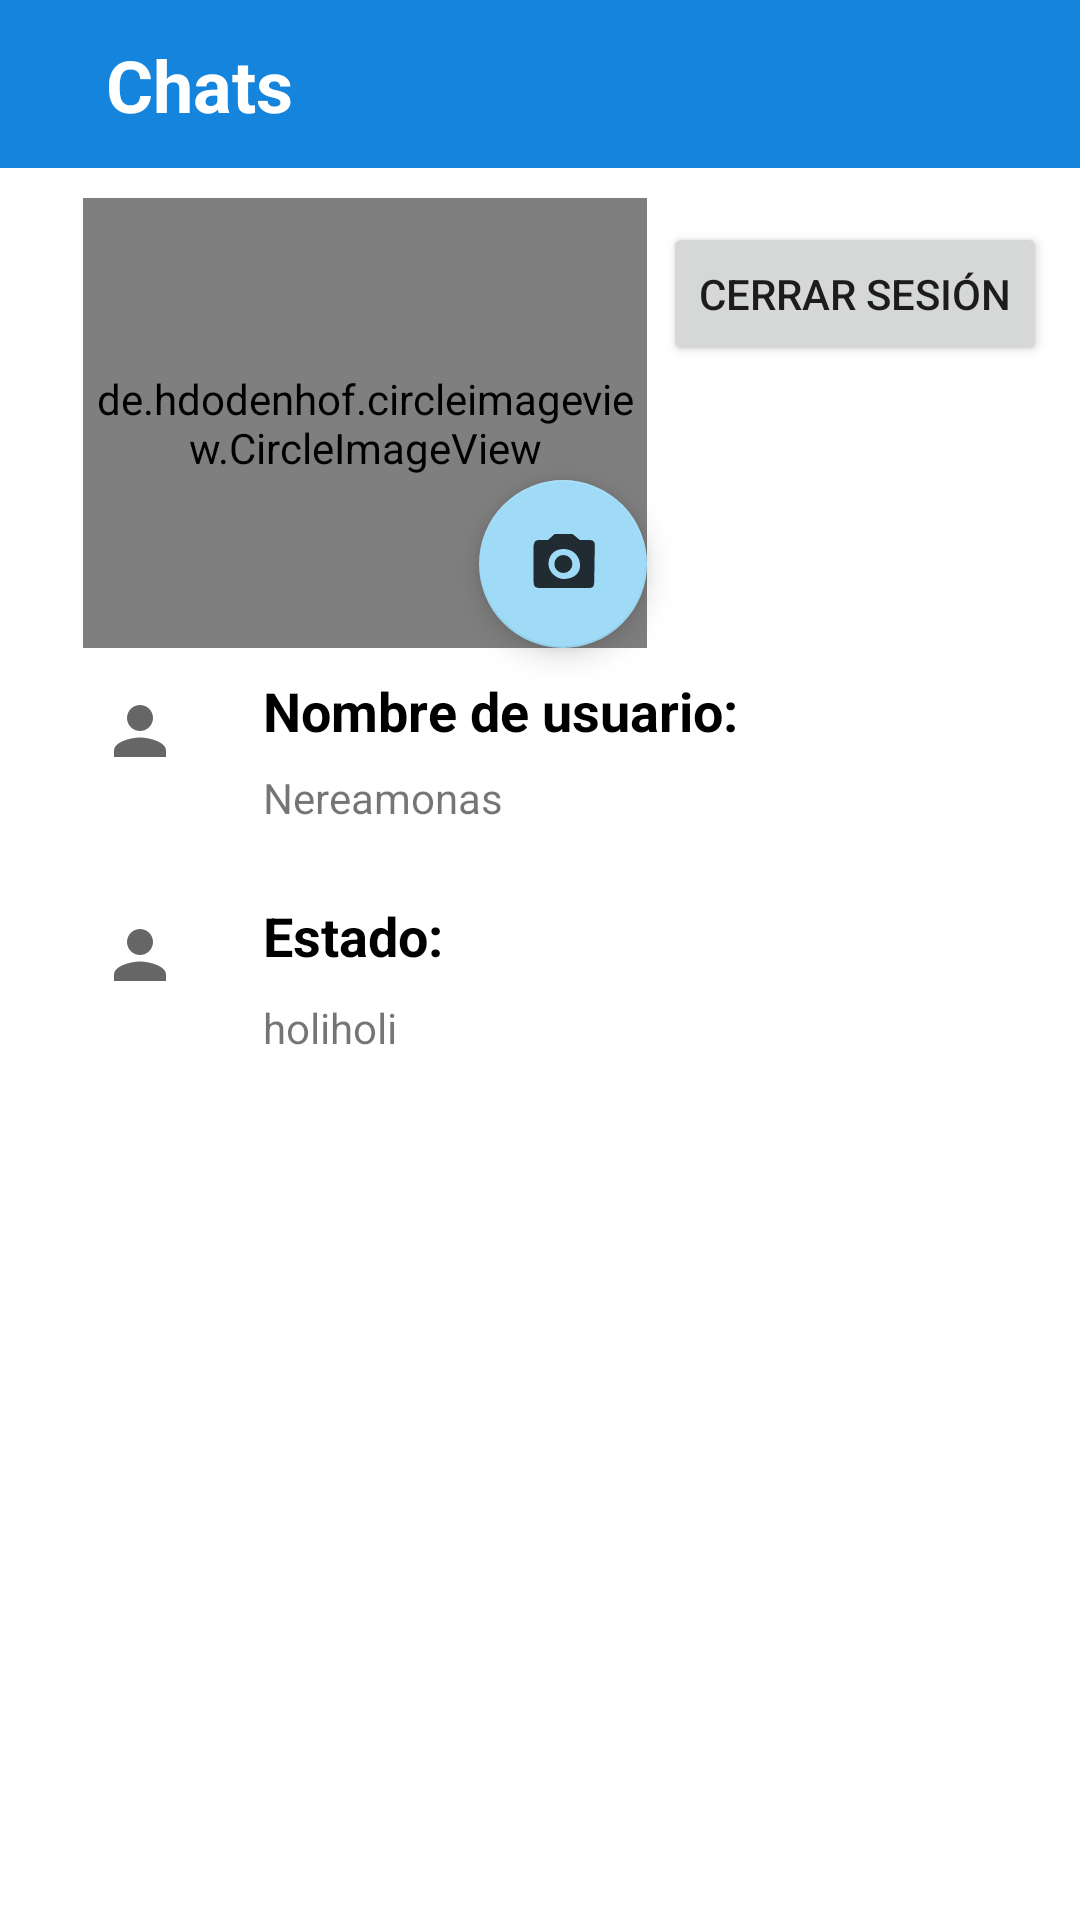

Where to tap for icons on this 1080×1920 app screen, as point (x, y):
camara: point (563, 564)
perfil: point (140, 731), point (140, 955)
